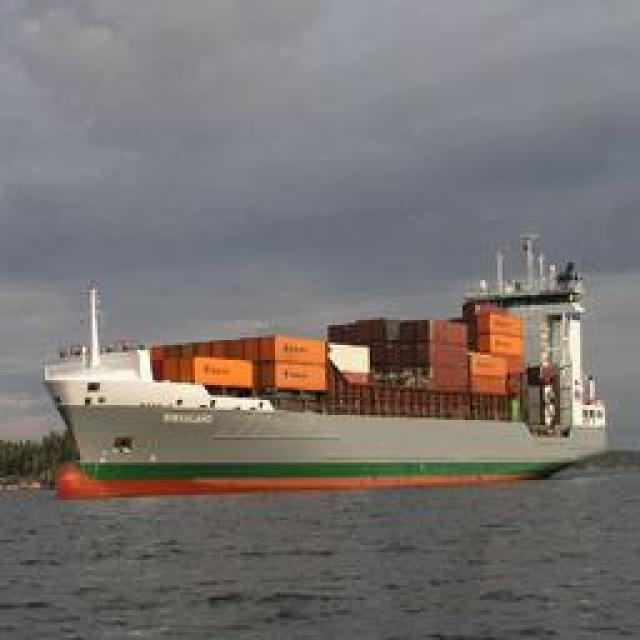CIV_Ship: (48, 268, 612, 488)
